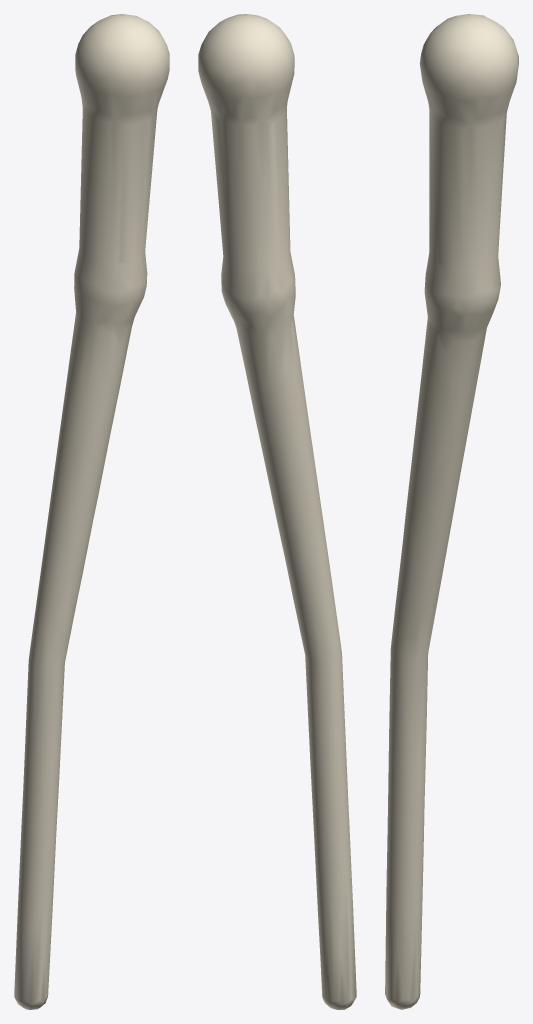
Rendered from ulna_l.glb.
The picture shows the model from 3 angles, left to right: view 1: azimuth 30°, elevation 25°; view 2: azimuth 210°, elevation 25°; view 3: azimuth 330°, elevation 25°; orthographic projection. The views are drawn at different scales.
Parts seen in each view (by area): view 1: geometry_0; view 2: geometry_0; view 3: geometry_0.
Boxes of the visible parts, x1,y1,x2,y2 form: geometry_0: [14, 14, 169, 1009]; geometry_0: [198, 14, 356, 1009]; geometry_0: [385, 14, 518, 1009].
Bounding box in the file's own units: 0.1438 × 1.01 × 0.0891.
